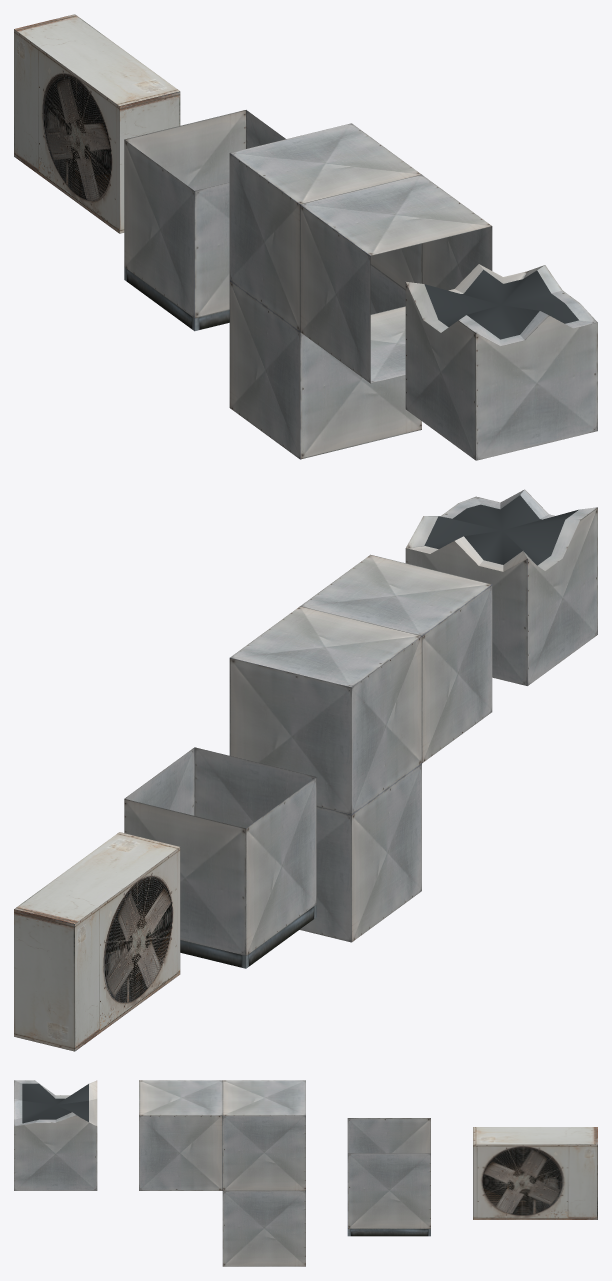
Rendered from Vents.fbx.
3 renders of one model, top to bottom at view 1: azimuth 30°, elevation 25°; view 2: azimuth 150°, elevation 25°; view 3: azimuth 270°, elevation 25°, orthographic. The views are drawn at different scales.
Parts seen in each view (by area): view 1: vent-curve, vent-broken, airConditioner, vent-1, vent-end; view 2: vent-curve, vent-1, airConditioner, vent-broken, vent-end; view 3: vent-curve, airConditioner, vent-1, vent-broken, vent-end.
Boxes of the visible parts, bbox=[...] form: vent-curve: bbox=[229, 123, 492, 459]; vent-broken: bbox=[405, 264, 597, 460]; airConditioner: bbox=[14, 14, 180, 233]; vent-1: bbox=[124, 110, 285, 318]; vent-end: bbox=[124, 267, 229, 331]; vent-curve: bbox=[229, 554, 492, 942]; vent-1: bbox=[124, 747, 316, 955]; airConditioner: bbox=[14, 832, 180, 1051]; vent-broken: bbox=[405, 489, 597, 685]; vent-end: bbox=[180, 904, 316, 968]; vent-curve: bbox=[139, 1080, 305, 1266]; airConditioner: bbox=[473, 1127, 597, 1219]; vent-1: bbox=[347, 1118, 430, 1228]; vent-broken: bbox=[14, 1080, 97, 1190]; vent-end: bbox=[347, 1229, 430, 1236].
Bounding box in the file's own units: 200 × 400 × 1400.
